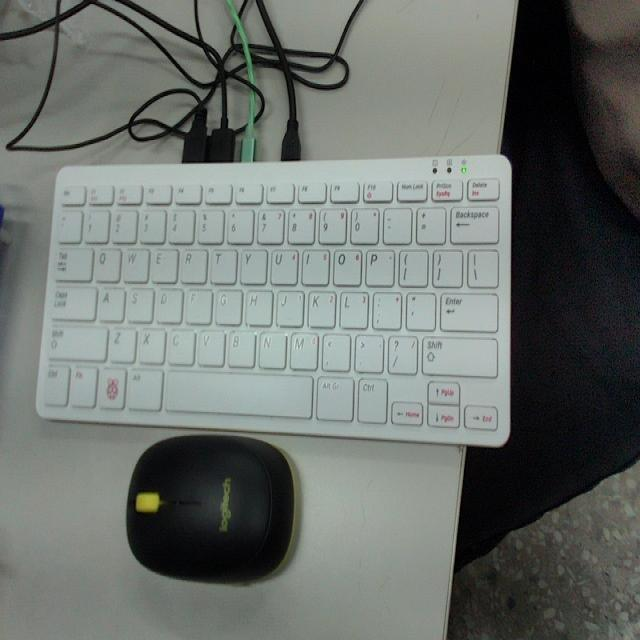keyboard: (38, 172, 504, 433)
